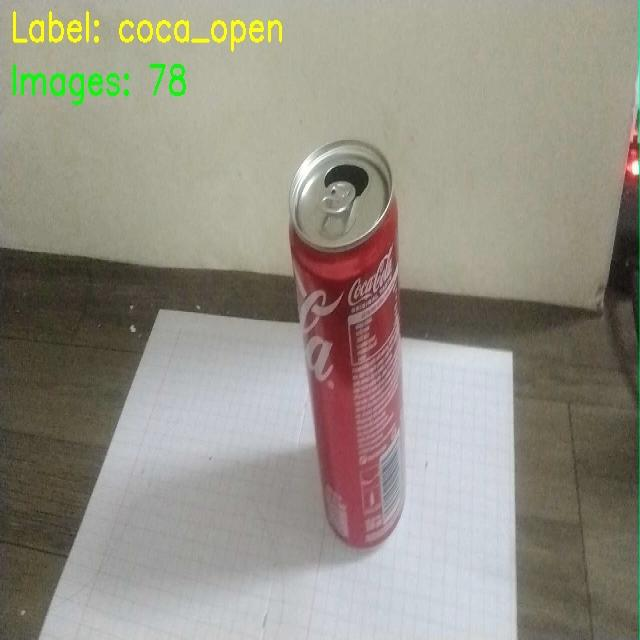Coca_open: (270, 143, 427, 555)
